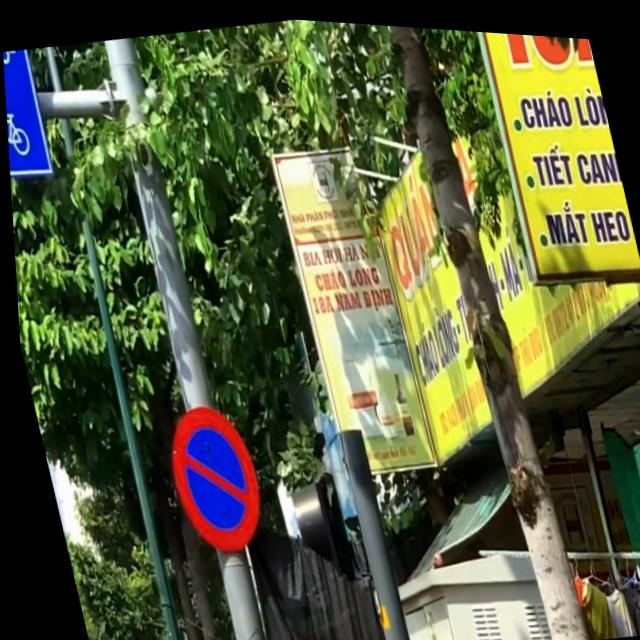Cam do xe: (151, 392, 268, 561)
